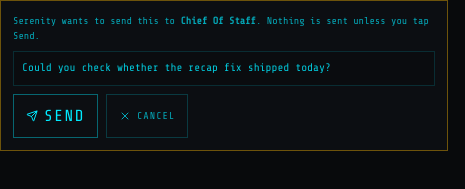
BotDraftConfirmCard › keeps the card and shows the error when the server refuses (mocked 503)
Click the button "Send".
click(56, 116)  # box [13,94,98,138]
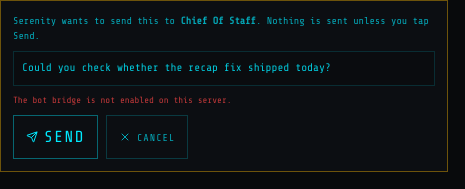
Expected: the button "Send" is shown, [13,115,98,159]
Result: the text "The bot bridge is not enabled on this server." is shown at [13,94,232,104]
